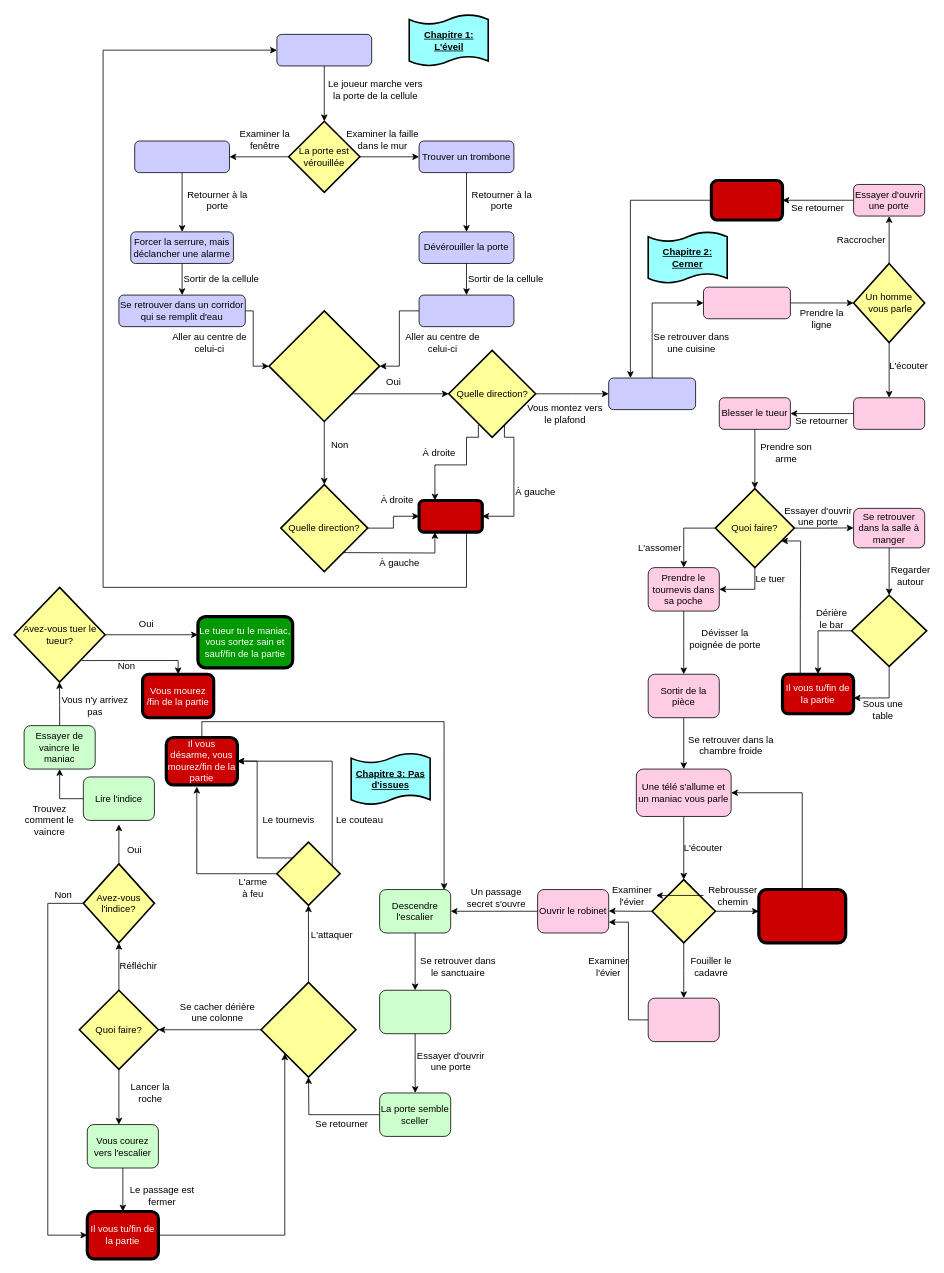
Some shapes in this 944 by 1273 pixel diagram are drawn without their labels. The shapes that lost their labels are listed below. From the top down, each one's centre as x and y in pixels, then its label:
At (x=324, y=50): "Le joueur se réveille dans une cellule.".
At (x=181, y=156): "Trouver le caillou".
At (x=746, y=200): "On vous tire dessus/fin de la partie".
At (x=466, y=310): "Se retrouver dans un corridor".
At (x=746, y=302): "Un téléphone sonne".
At (x=324, y=366): "Le corridor se remplit d'eau?".
At (x=652, y=393): "Ouvrir une trape au plafond".
At (x=889, y=413): "Prendre un couteau".
At (x=450, y=515): "Pas d'issue/ fin de la partie".
At (x=888, y=630): "Trouver une cachette".
At (x=308, y=873): "Quelle armes?".
At (x=683, y=910): "Trouver une sortie".
At (x=802, y=916): "La pièce prend feu, vous mourez/fin de la partie".
At (x=308, y=1029): "Le maniac rentre dans la pièce".
At (x=415, y=1011): "Une porte se dresse devant vous".
At (x=683, y=1019): "Trouver l'indice".
